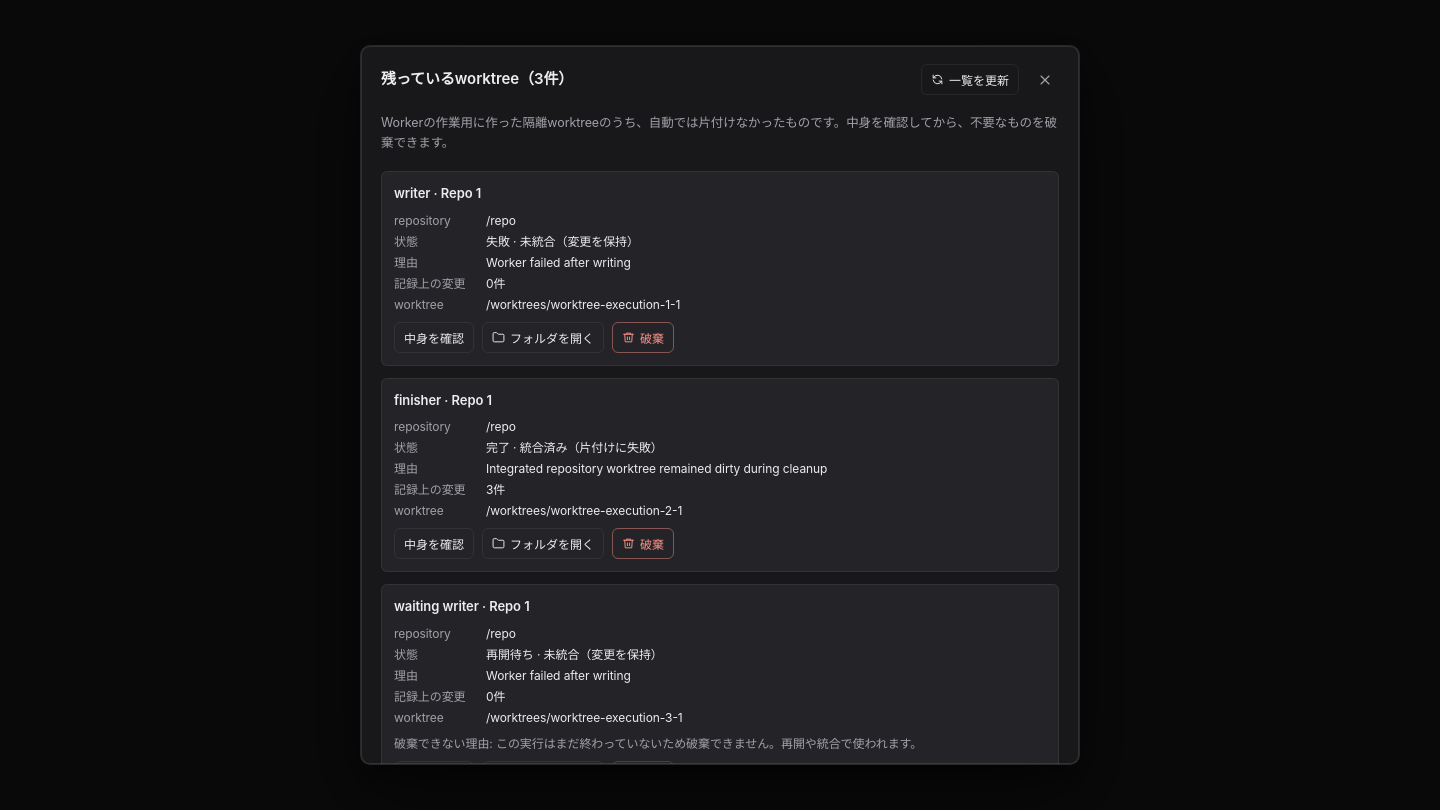
Test case: TeamRetainedWorktreesDialog (issue #544) › keeps the confirmation open with Main's reason when the discard is refused
Click the button "破棄" below "失敗 · 未統合（変更を保持）". click: [643, 337]
box: [612, 322, 674, 352]
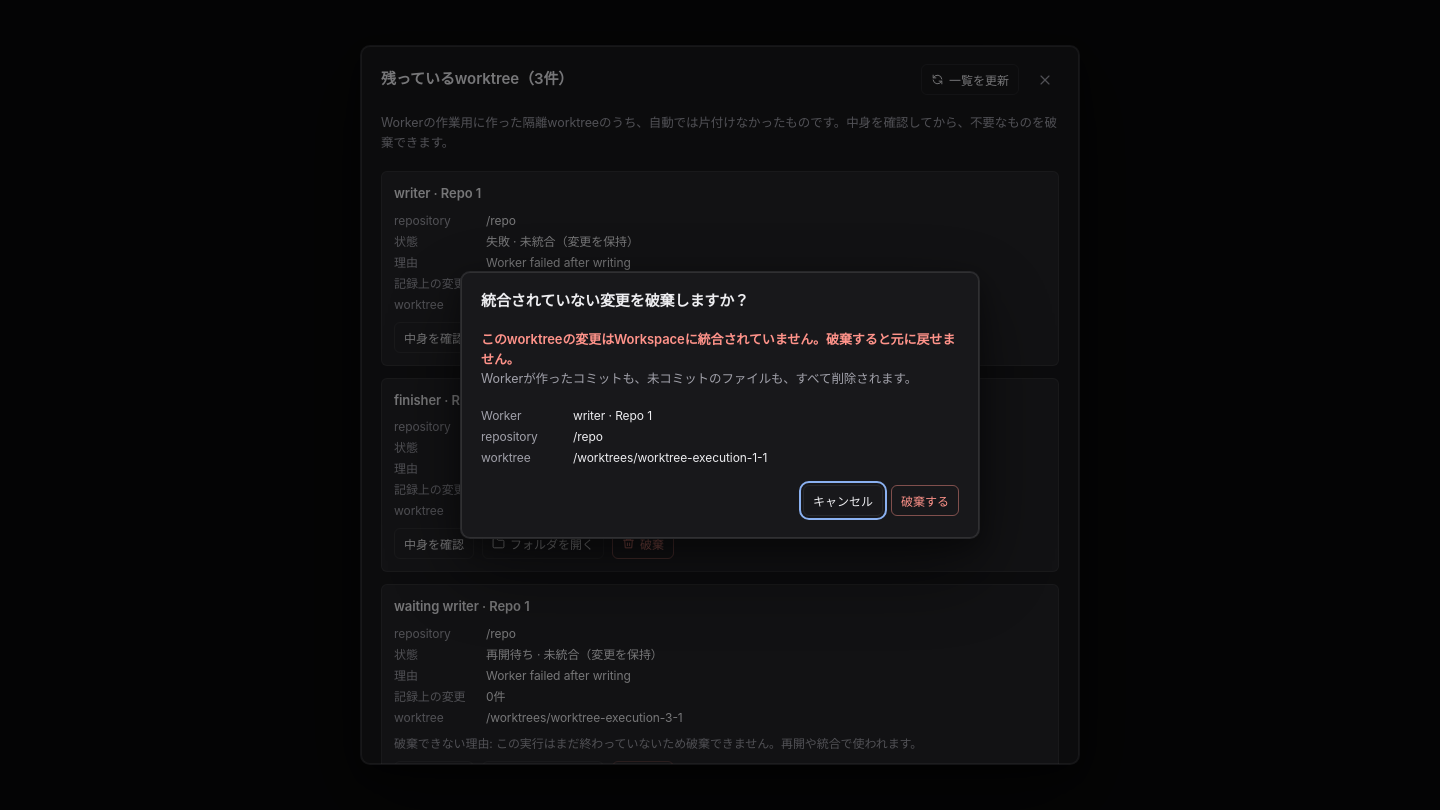
Click the button with test id "team-retained-confirm-discard". click: [925, 501]
box: [891, 485, 959, 516]
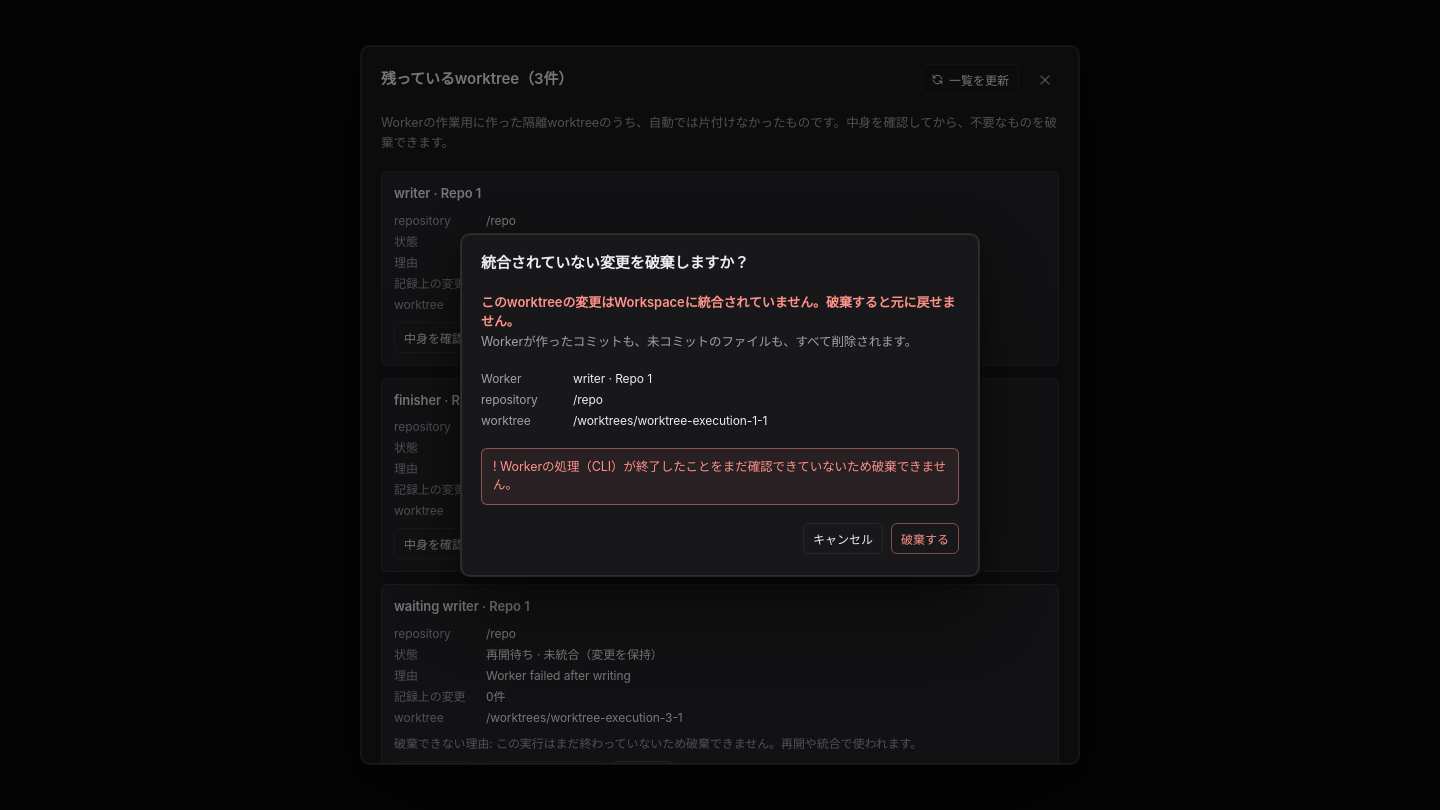
Now the dialog with test id "team-retained-confirm" is shown, box [460, 233, 980, 577]
Now the message with test id "team-retained-confirm-error" shows "終了したことをまだ確認できていない", box [493, 458, 946, 492]
